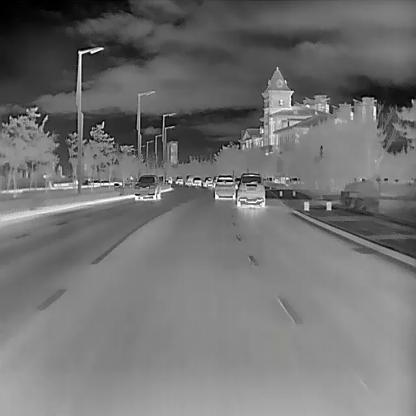car: (236, 172, 264, 207), (133, 174, 160, 200), (213, 173, 235, 198), (202, 176, 212, 186), (192, 175, 201, 185), (174, 175, 183, 184), (185, 174, 193, 184)
